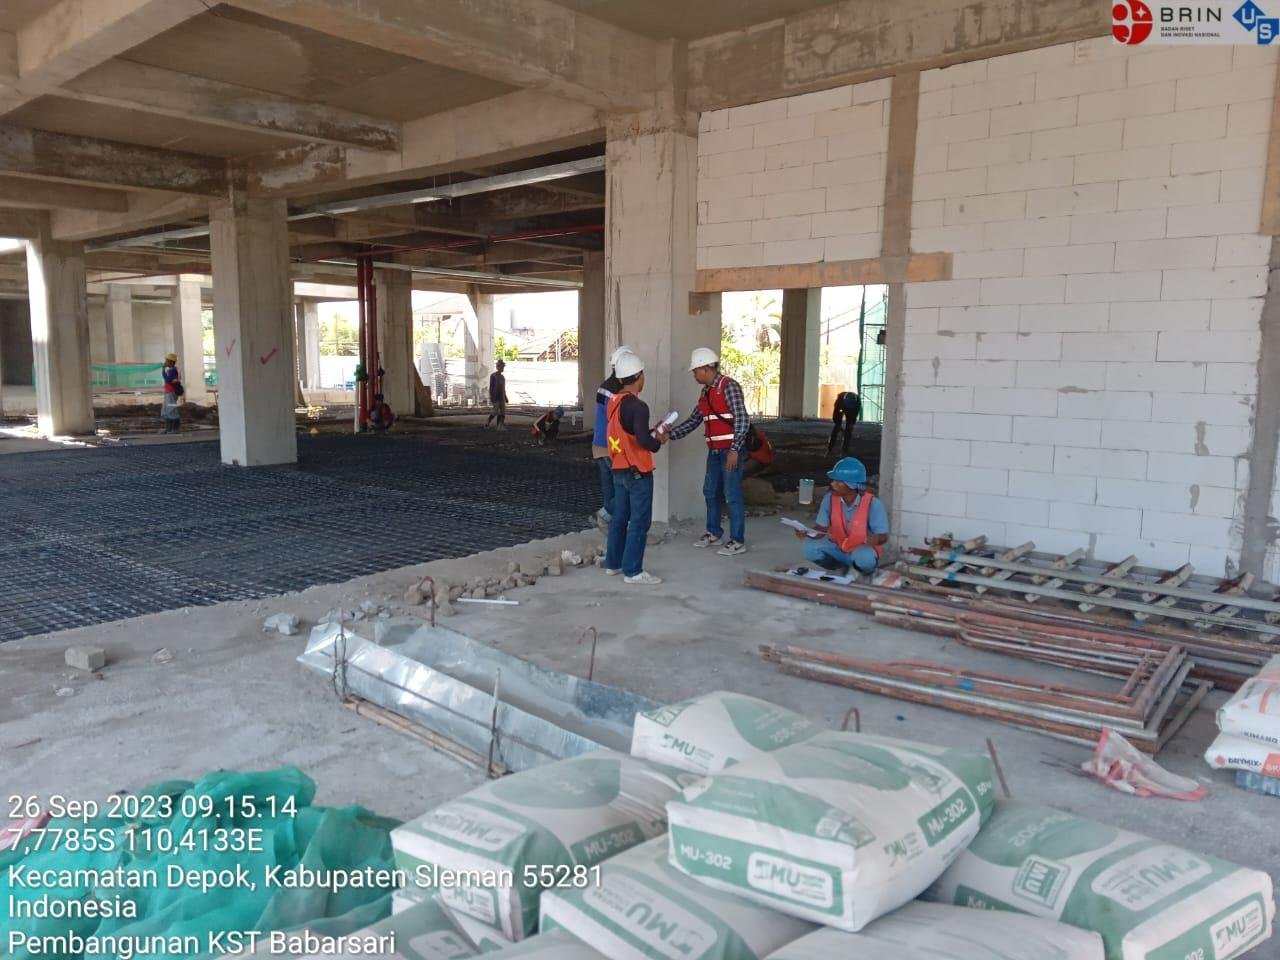hat: (828, 448, 877, 501), (687, 338, 727, 387), (615, 351, 654, 382), (604, 342, 625, 387)
vest: (684, 378, 778, 465), (812, 482, 894, 575), (607, 395, 667, 485), (585, 378, 621, 471)
